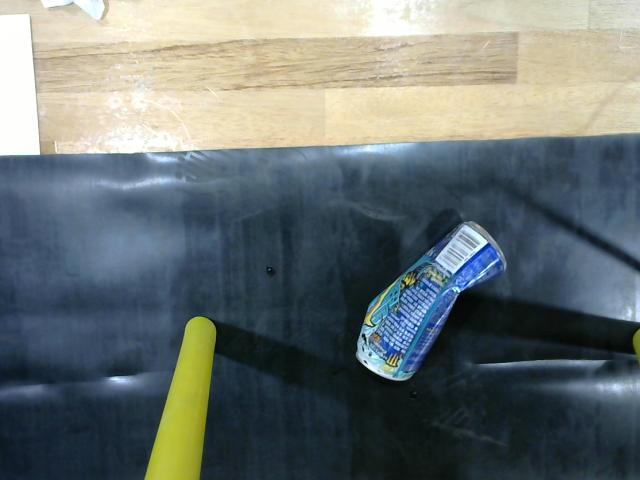can: (356, 219, 514, 381)
